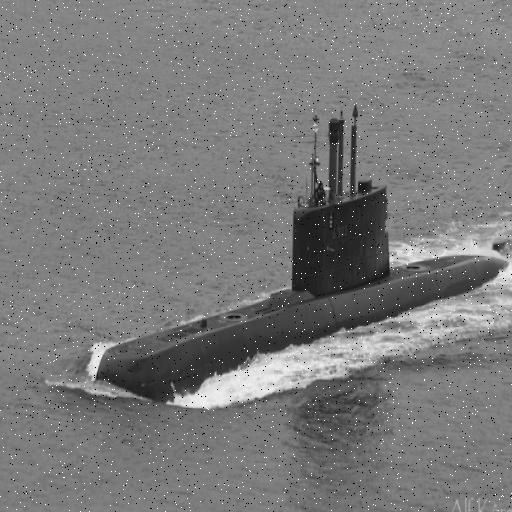submarine: (95, 100, 512, 415)
